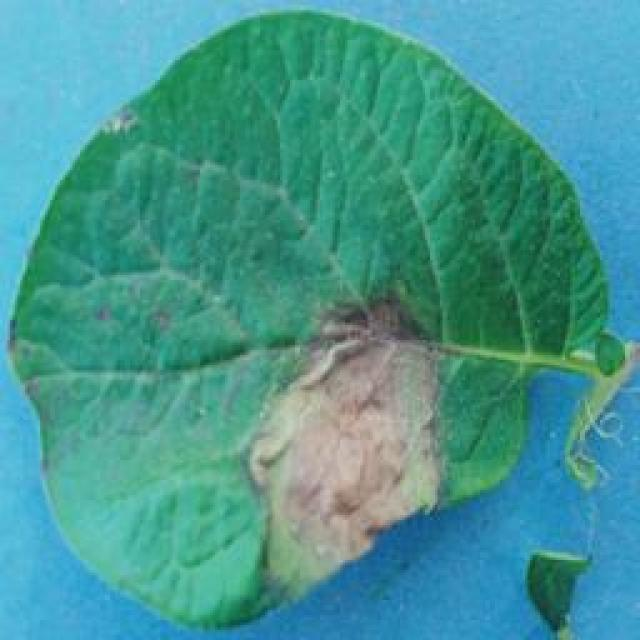Potato_Late_Blight: (15, 11, 612, 627)
